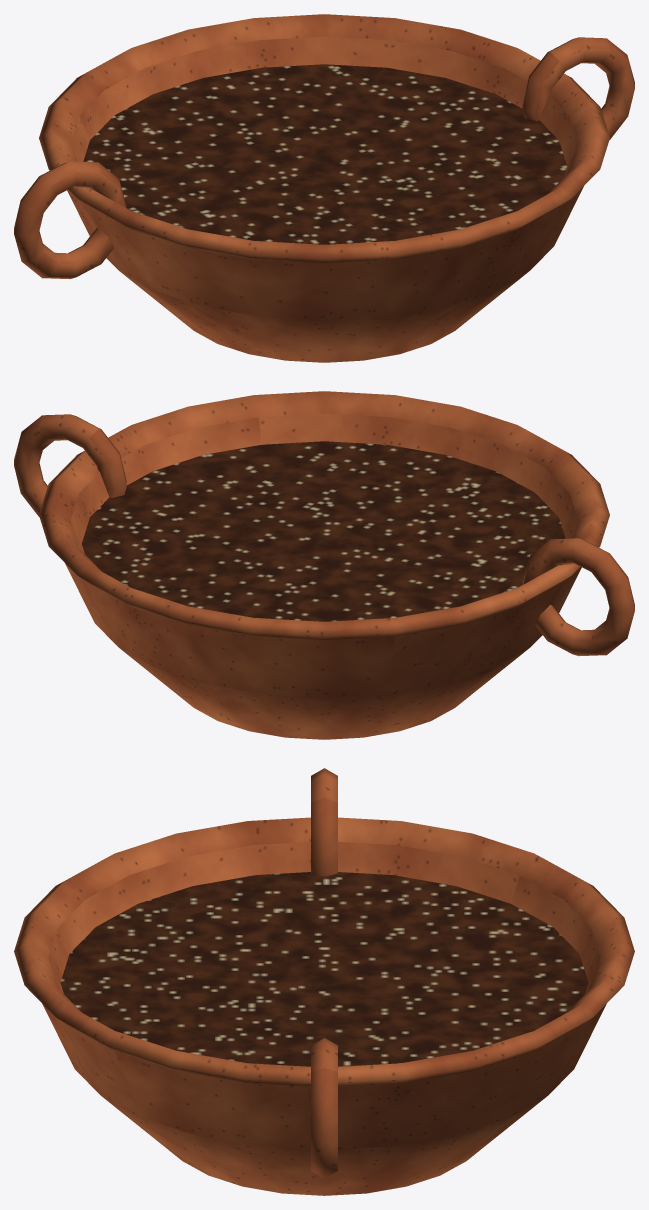
The model's file is cazuela.obj.
The picture shows the model from 3 angles, top to bottom: view 1: azimuth 30°, elevation 25°; view 2: azimuth 150°, elevation 25°; view 3: azimuth 270°, elevation 25°; orthographic projection. The views are drawn at different scales.
Visible parts, largest first — view 1: Cazuela, Mole, Asas; view 2: Cazuela, Mole, Asas; view 3: Cazuela, Mole, Asas.
Boxes of the visible parts, <box> form: Cazuela: <box>39,14,609,362</box>; Mole: <box>83,64,567,244</box>; Asas: <box>14,37,634,279</box>; Cazuela: <box>39,391,609,739</box>; Mole: <box>81,441,565,621</box>; Asas: <box>14,414,634,656</box>; Cazuela: <box>14,817,634,1195</box>; Mole: <box>60,872,588,1066</box>; Asas: <box>311,768,337,1178</box>.
Bounding box in the file's own units: 0.452 × 0.139 × 0.36.
Materials: 2 (2 with a texture image).
